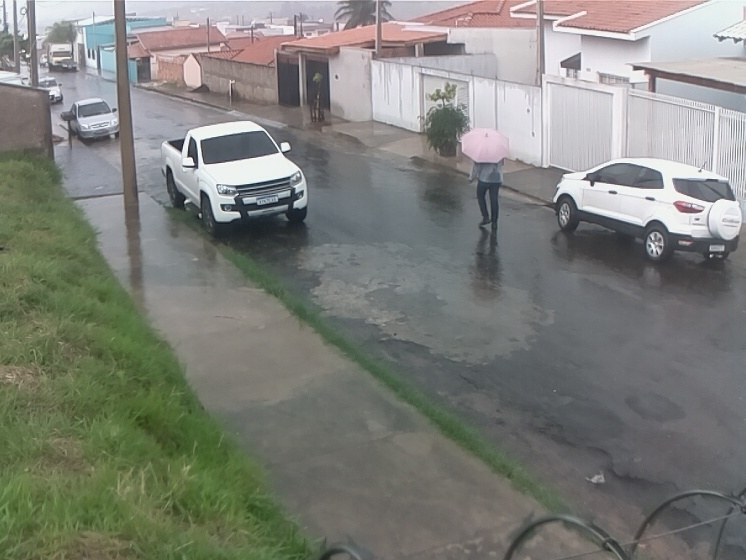person: (470, 155, 502, 228)
